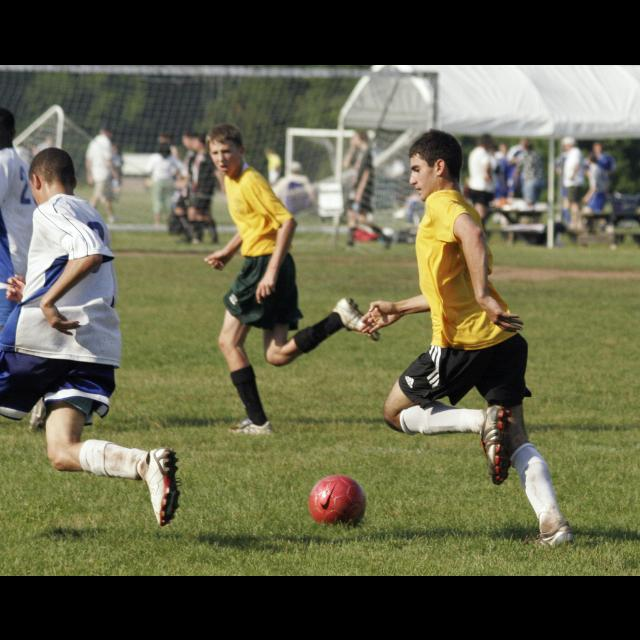Football: (303, 472, 372, 526)
